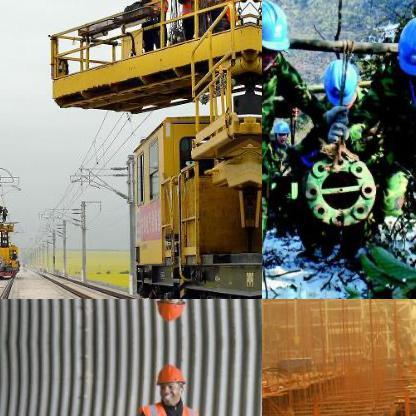Helmet: (318, 55, 354, 113), (262, 0, 291, 69), (151, 358, 187, 404), (396, 13, 415, 82), (151, 299, 188, 325), (267, 117, 291, 143)
